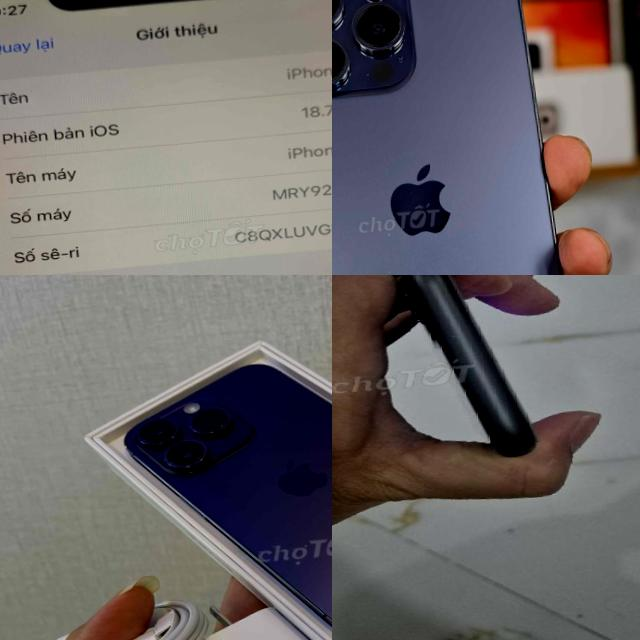gen_11: (377, 275, 558, 484)
gen_14: (332, 0, 587, 275), (115, 324, 332, 640)
gen_x_xs: (0, 0, 332, 275)
